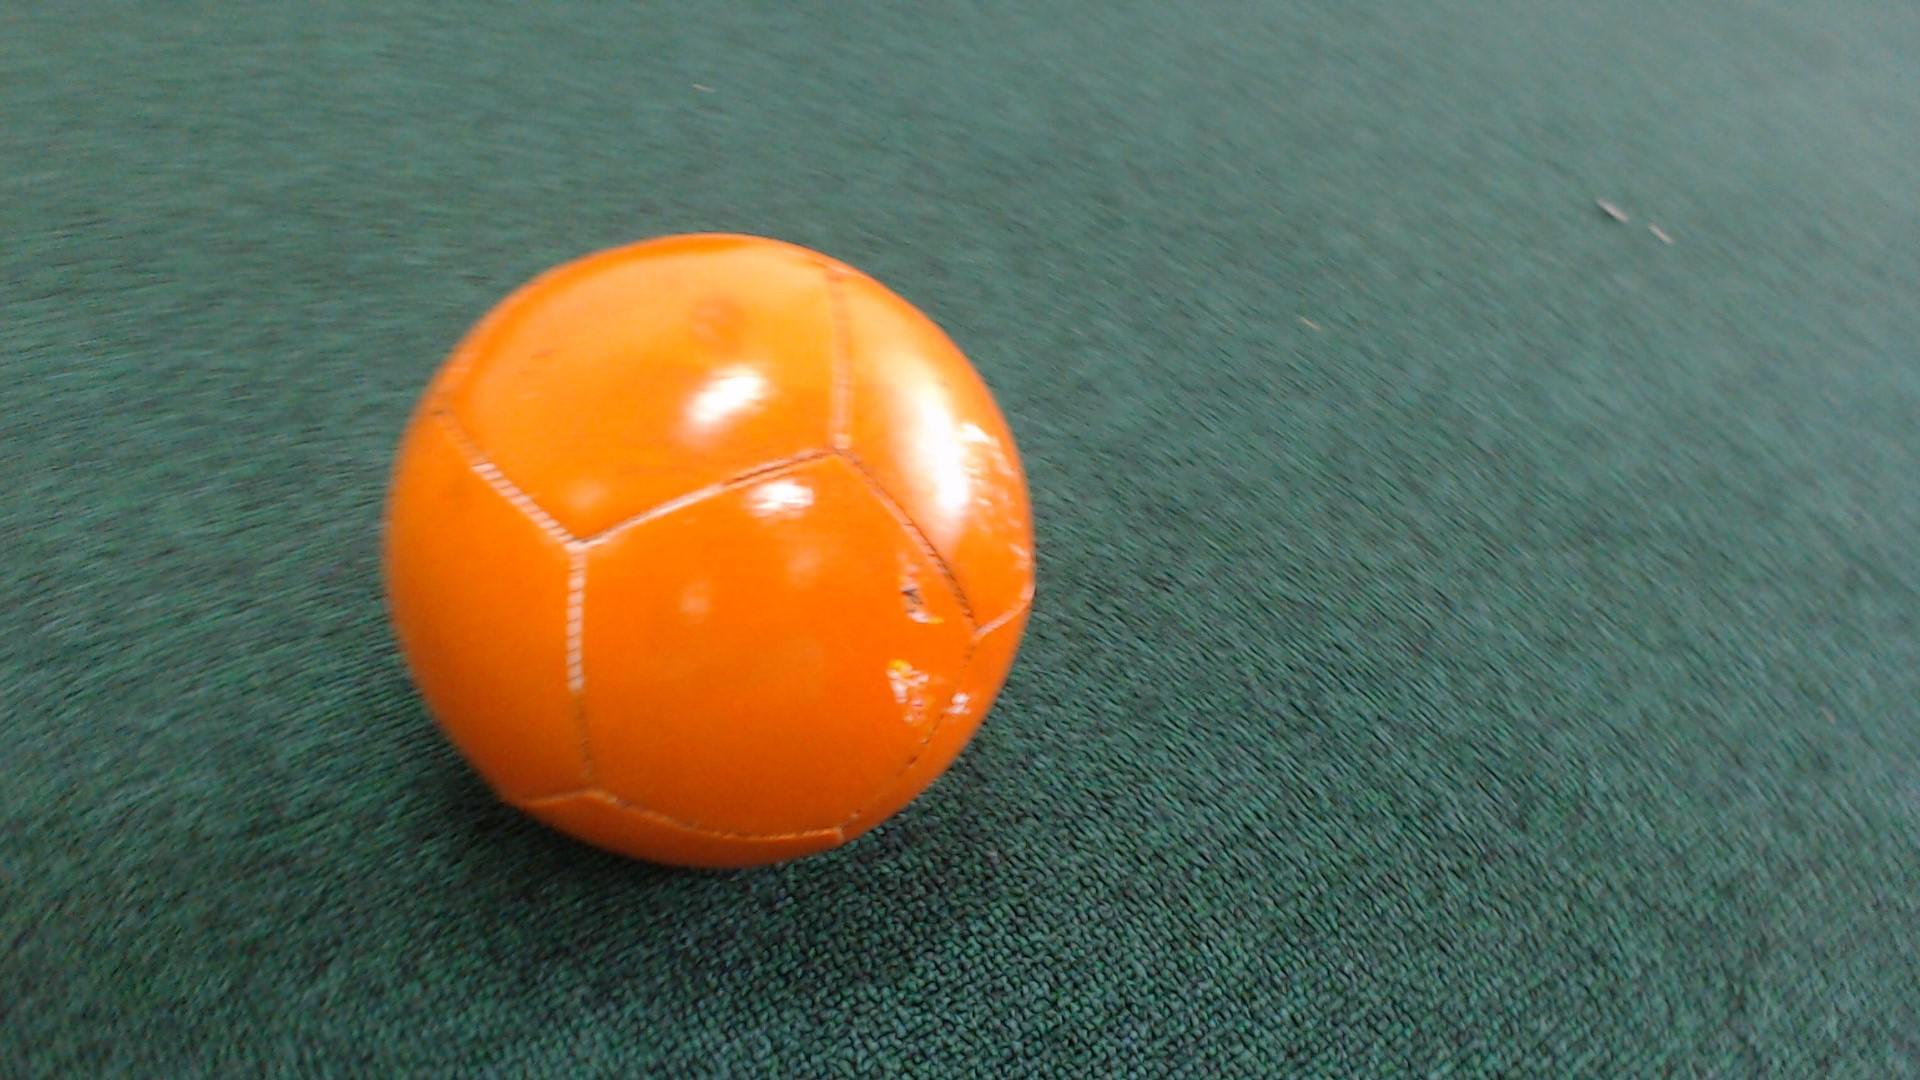bola: (352, 206, 1079, 955)
